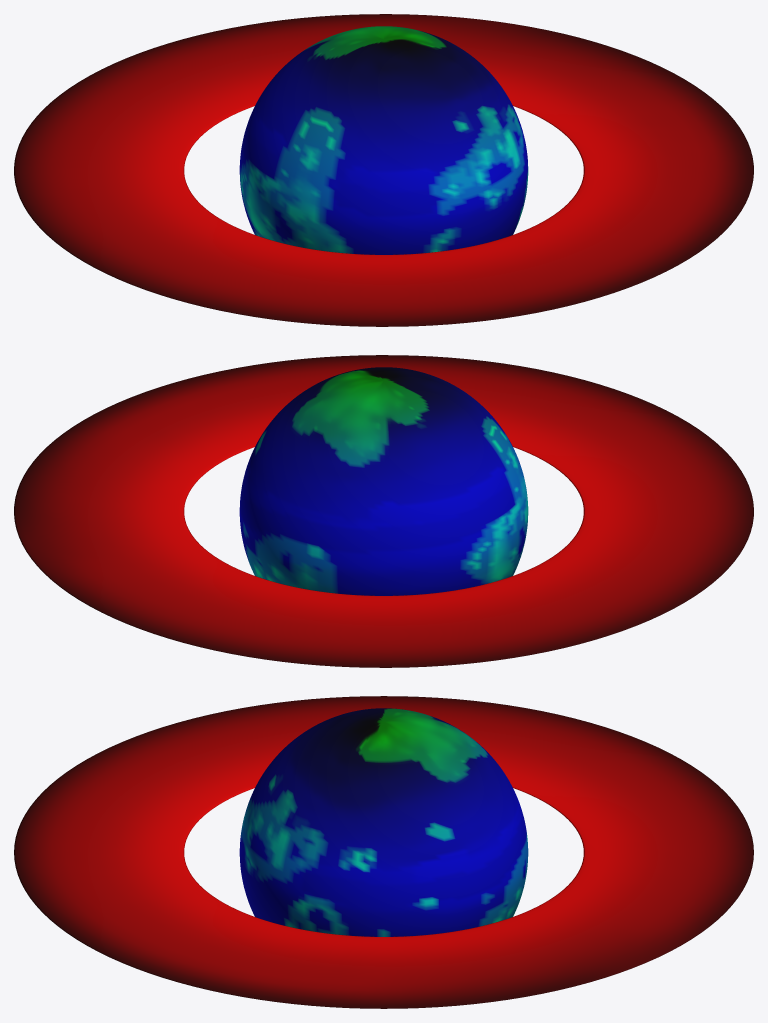
The model's file is planet.fbx.
3 renders of one model, top to bottom at view 1: azimuth 30°, elevation 25°; view 2: azimuth 150°, elevation 25°; view 3: azimuth 270°, elevation 25°, orthographic.
Parts seen in each view (by area): view 1: Torus.004, Sphere; view 2: Torus.004, Sphere; view 3: Torus.004, Sphere.
Boxes of the visible parts, x1=… form: Torus.004: x1=14, y1=14, x2=753, y2=326; Sphere: x1=239, y1=26, x2=528, y2=254; Torus.004: x1=14, y1=355, x2=753, y2=667; Sphere: x1=239, y1=367, x2=528, y2=595; Torus.004: x1=14, y1=696, x2=753, y2=1008; Sphere: x1=239, y1=708, x2=528, y2=936.
Bounding box in the file's own units: 1026 × 400 × 1026.
